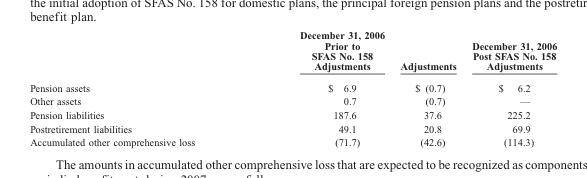table: (29, 29, 556, 147)
table column: (29, 29, 246, 147), (246, 29, 391, 147), (463, 29, 556, 147), (391, 29, 463, 147)
table column header: (29, 29, 556, 76)
table row: (29, 29, 556, 76), (29, 76, 556, 94), (29, 107, 556, 121), (29, 94, 556, 107), (29, 121, 556, 134), (29, 134, 556, 147)
